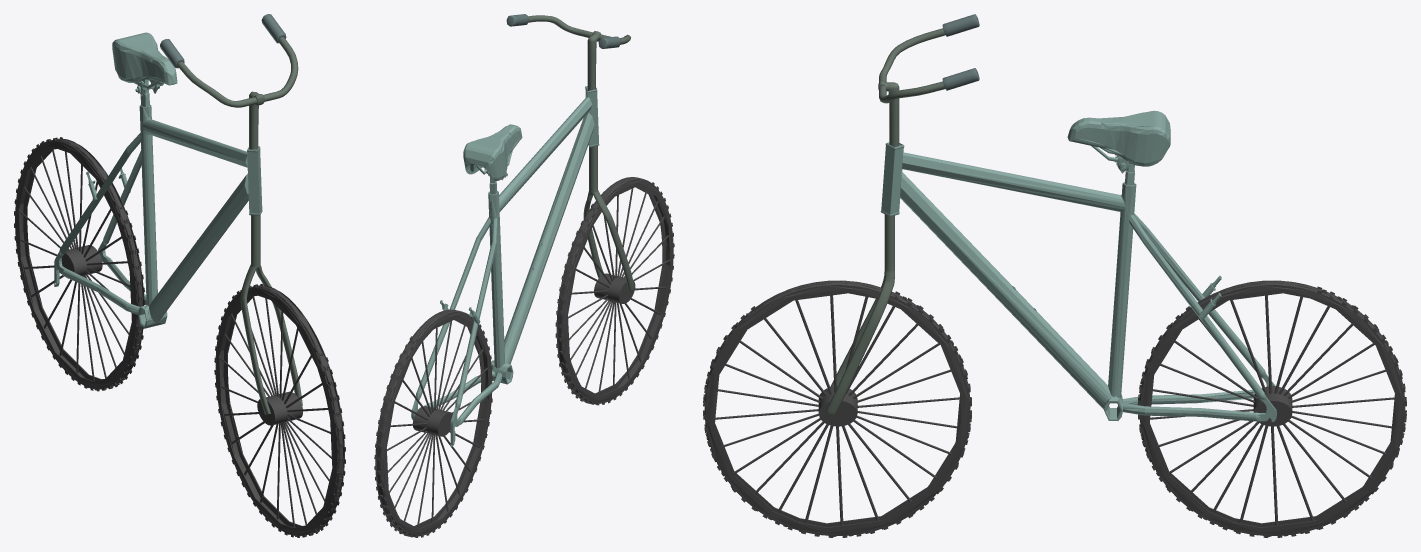
The model's file is Bicycle_1.fbx.
3 renders of one model, left to right at view 1: azimuth 30°, elevation 25°; view 2: azimuth 150°, elevation 25°; view 3: azimuth 270°, elevation 25°, orthographic. The views are drawn at different scales.
Visible parts, largest first — view 1: Bicycle; view 2: Bicycle; view 3: Bicycle.
Part boxes in pixels (x1=…): Bicycle: x1=14, y1=14, x2=345, y2=537; Bicycle: x1=374, y1=14, x2=674, y2=537; Bicycle: x1=703, y1=14, x2=1406, y2=537.
Size of the model in its own units: 0.6562 by 2.56 by 3.3.
